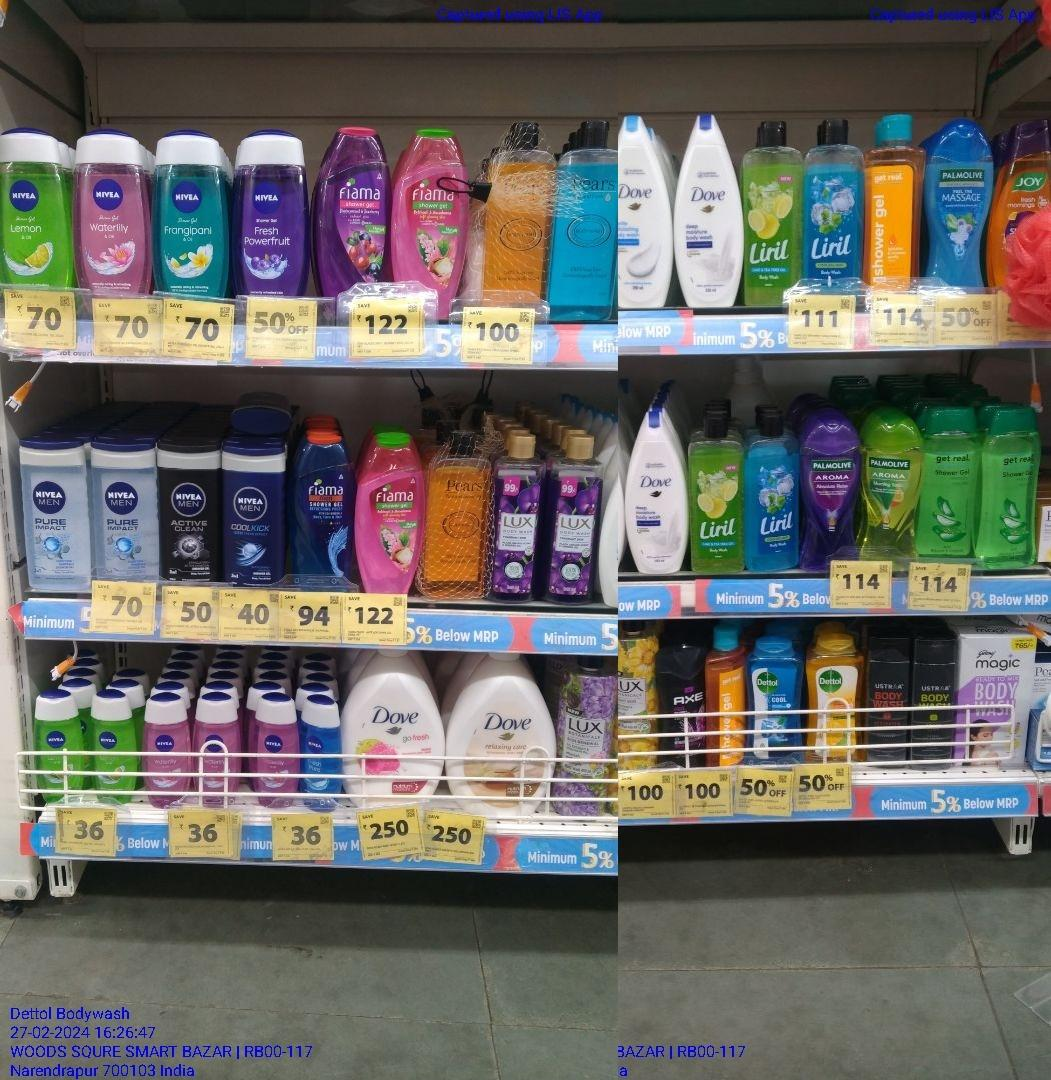Dettol_Bodywash_Cool: (746, 639, 800, 771)
Dettol_Bodywash_Refresh: (806, 634, 861, 771)
Dove_Deep_Moisture_Body_Wash_250ML: (677, 112, 744, 307), (630, 413, 686, 576)
Dove_Gentle_Exfoliating_Body_Wash_250ML: (618, 113, 671, 309)
Fiama_Shower_Gel_Patchouli_and_Macadamia_250ML: (396, 127, 464, 325), (355, 433, 421, 604)
Joy_Shower_Gel_Mandarin_and_Lemongrass_250ML: (999, 115, 1048, 283)
Liril_Cooling_Mint_Body_Wash_250ML: (805, 117, 861, 294), (746, 411, 797, 574)
Liril_Lime_and_Tea_Tree_Oil_Body_Wash_250ML: (746, 118, 802, 311), (693, 418, 744, 577)
Lux_Black_Orchid_Scent_and_Juniper_Oil_Body_Wash_245ML: (548, 433, 602, 607), (490, 429, 542, 607)
Nivea_Shower_Gel_Frangipani_and_Oil_250ML: (151, 130, 233, 302)
Nivea_Shower_Gel_Fresh_Powerfruit_250ML: (237, 131, 309, 302)
Nivea_Shower_Gel_Lemon_and_Oil_250ML: (0, 124, 70, 296), (88, 688, 136, 804), (34, 692, 80, 803)
Nivea_Shower_Gel_Waterlily_and_Oil_250ML: (71, 127, 146, 302), (144, 692, 192, 811), (194, 692, 239, 809), (252, 701, 299, 808)
Palmolive_Aroma_Moments_Feel_The_Massage_Shower_Gel_250ML: (926, 118, 992, 292)
Palmolive_Aroma_Morning_Tonic_Shower_Gel_250ML: (864, 408, 920, 570)
Palmolive_Aroma_Relax_250ML: (803, 418, 860, 582)
Pears_Pure_Glycerin_and_Mint_Extracts_Body_Wash_250ML: (559, 118, 618, 323)
